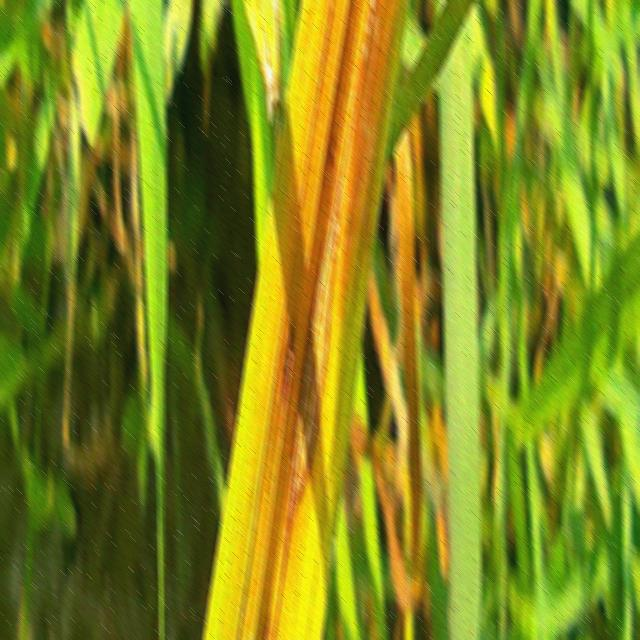LEAF BLAST: (279, 226, 337, 590)
